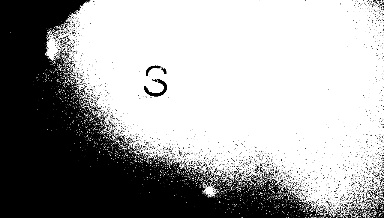S: (137, 60, 172, 98)
